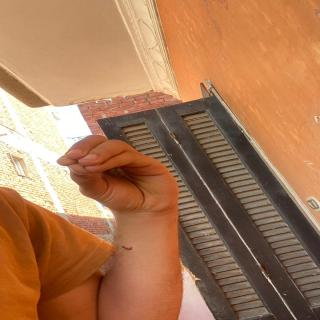HA: (50, 128, 191, 218)
